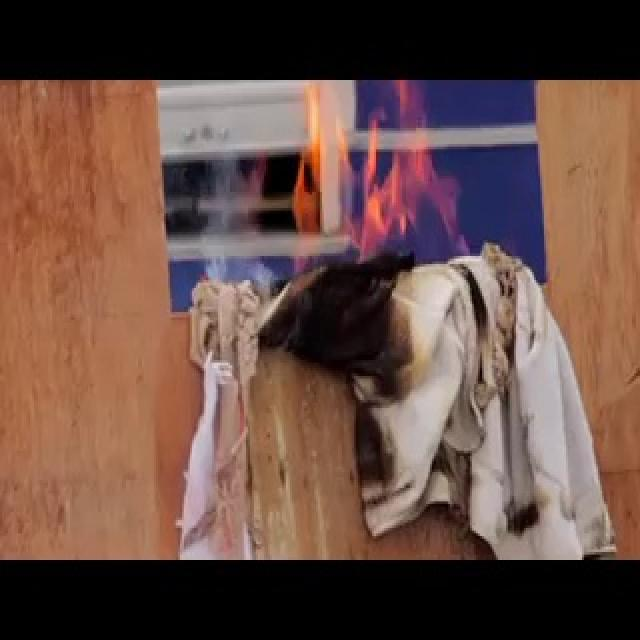fire: (259, 82, 487, 280)
